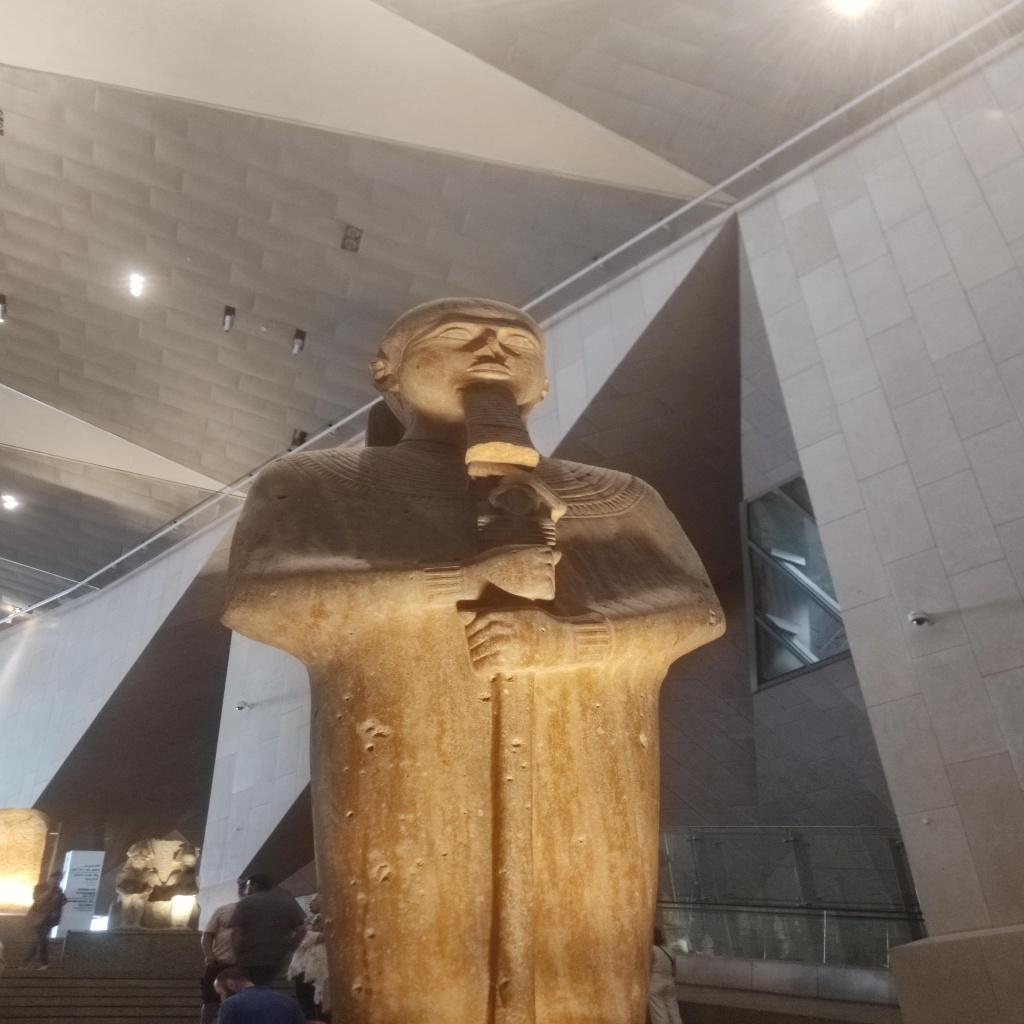Colossal Statue of God Ptah: (216, 291, 730, 1020)
